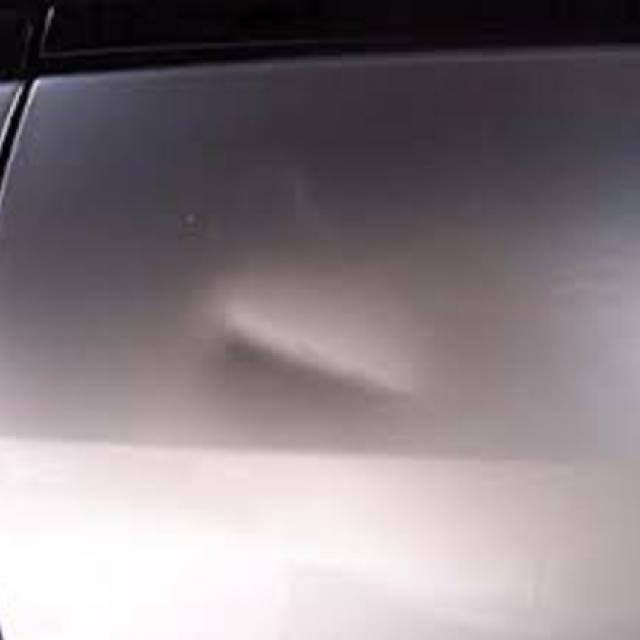dents: (179, 279, 419, 451)
